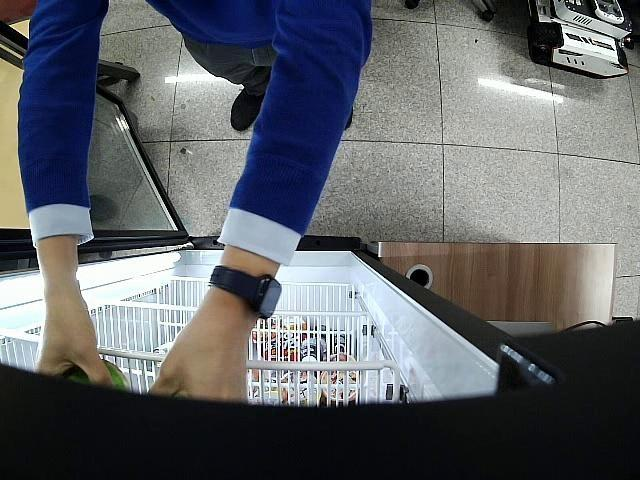19_17cha: (62, 357, 130, 393)
